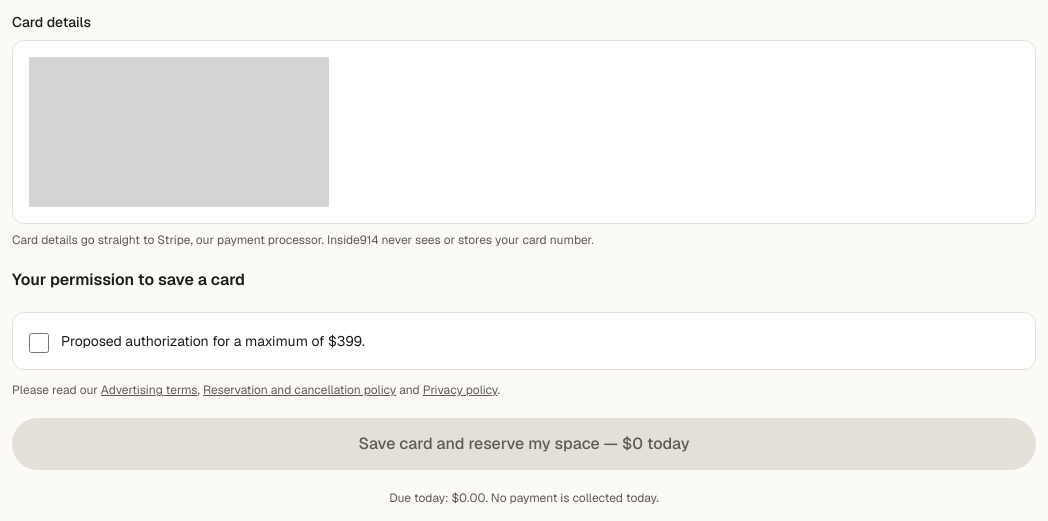
Test: PaymentStep › the consent box starts unticked and the button stays disabled until it's ticked
This screenshot has width=1048, height=521.
Expected: the button "Save card and reserve my space — $0 today" is disabled, [12,418,1036,470]
What coordinates should you click on to do the following:
click the checkbox
I would click on:
 (39, 343)
Its box is [29,333,49,353].
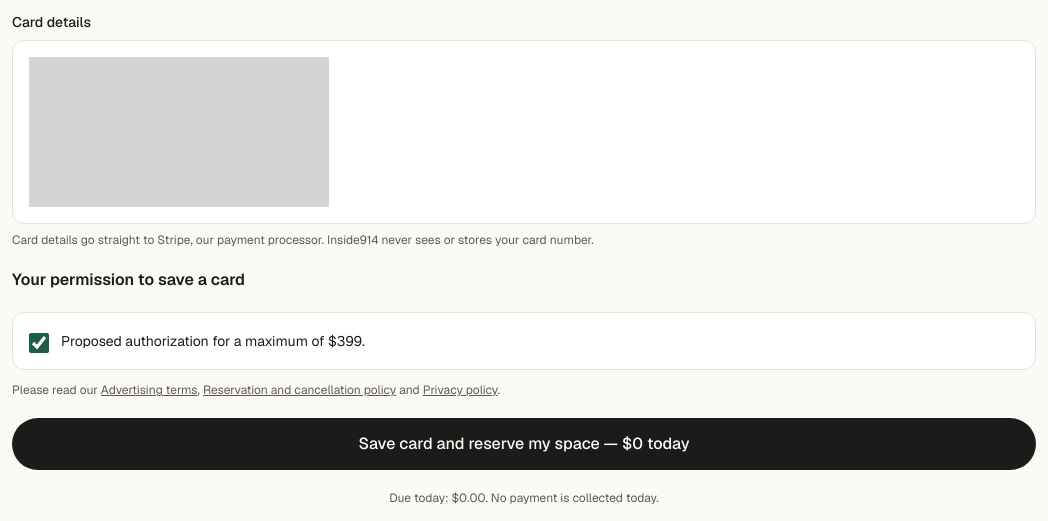
Expected: the link "Advertising terms" is shown, [101,382,198,398]
Now the button "Save card and reserve my space — $0 today" is enabled, box [12,418,1036,470]
